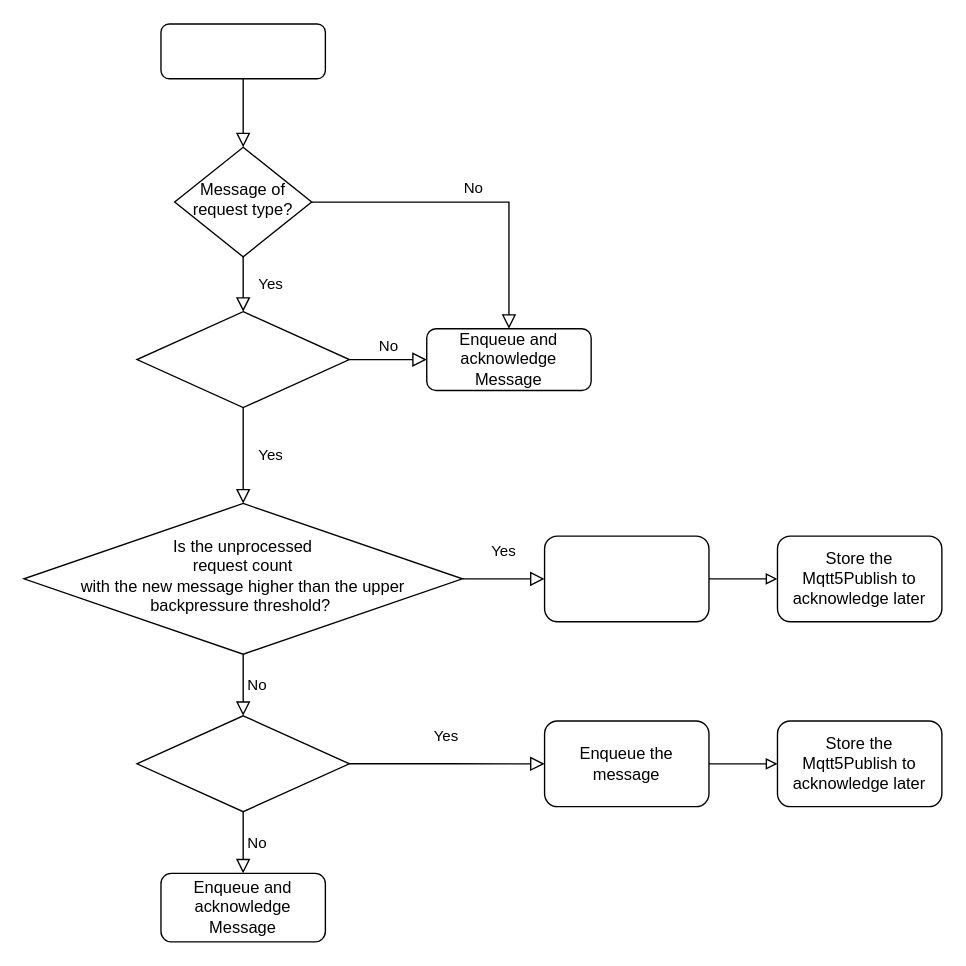
This 966x966 diagram has some shape labels left out. The shapes that lost their labels are listed below. From the top down, each one's box as (x1, y1, x2, y2) in pixels, then its label:
(160, 23, 325, 79): Message comes in
(136, 310, 349, 408): Is backpressure enabled?
(543, 535, 709, 622): Set backpressure mode to true and enqueue the message
(136, 714, 349, 812): Is backpressure mode already true?
